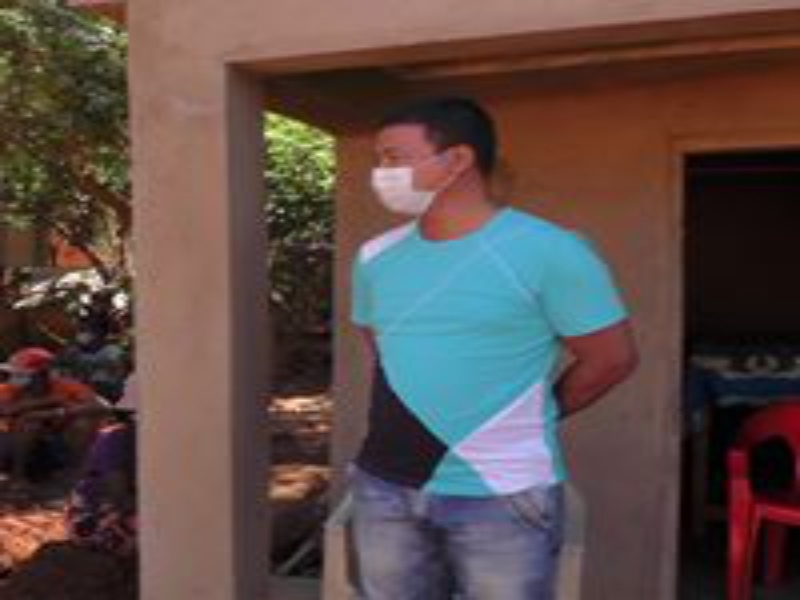ManaoArotava: (363, 109, 465, 226)
